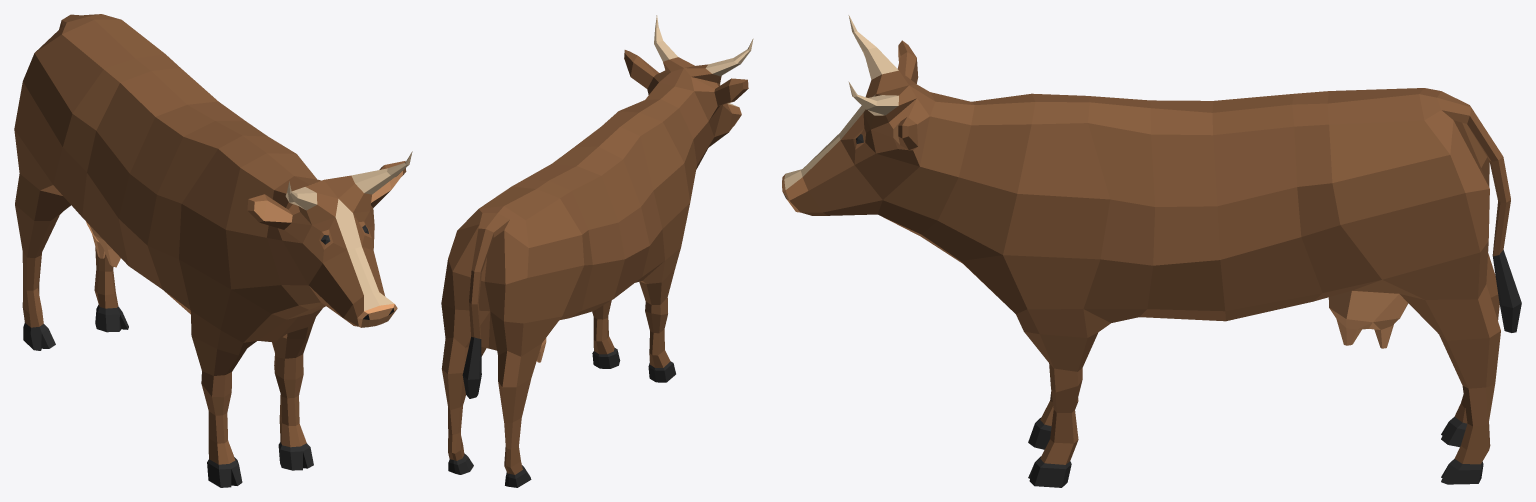
Rendered from animals-cow.glb.
3 views of the same model, side by side, from view 1: azimuth 30°, elevation 25°; view 2: azimuth 150°, elevation 25°; view 3: azimuth 270°, elevation 25° (orthographic). The views are drawn at different scales.
Visible parts, largest first — view 1: cow; view 2: cow; view 3: cow.
Part boxes in pixels (x1=…): cow: x1=14, y1=14, x2=412, y2=487; cow: x1=441, y1=15, x2=753, y2=487; cow: x1=782, y1=15, x2=1521, y2=487.
Bounding box in the file's own units: 0.8096 × 1.82 × 2.94.
